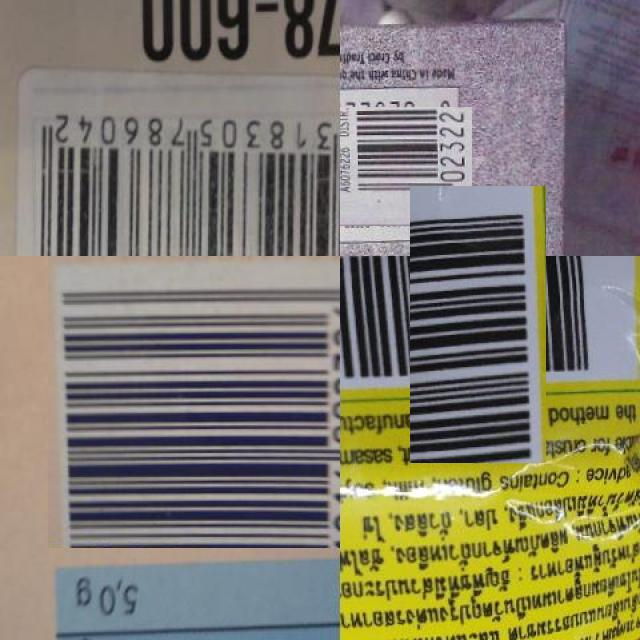Barcode: (47, 256, 340, 548), (24, 100, 340, 256), (375, 221, 582, 428), (334, 100, 466, 232)
